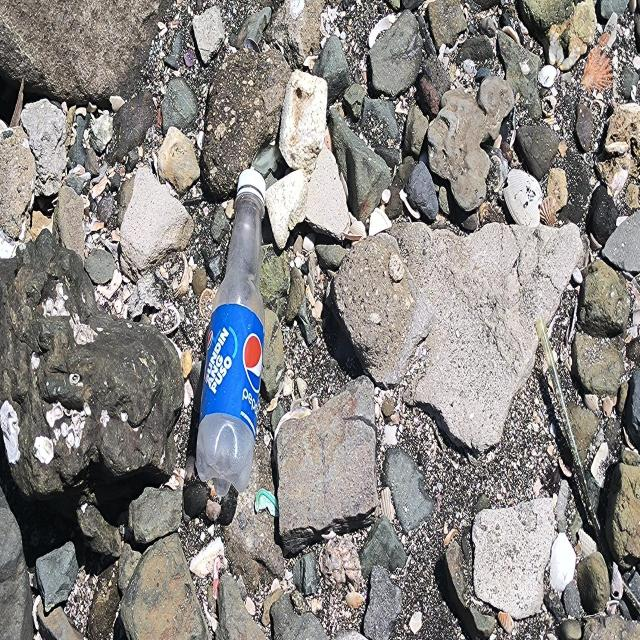litter: (195, 167, 269, 498)
